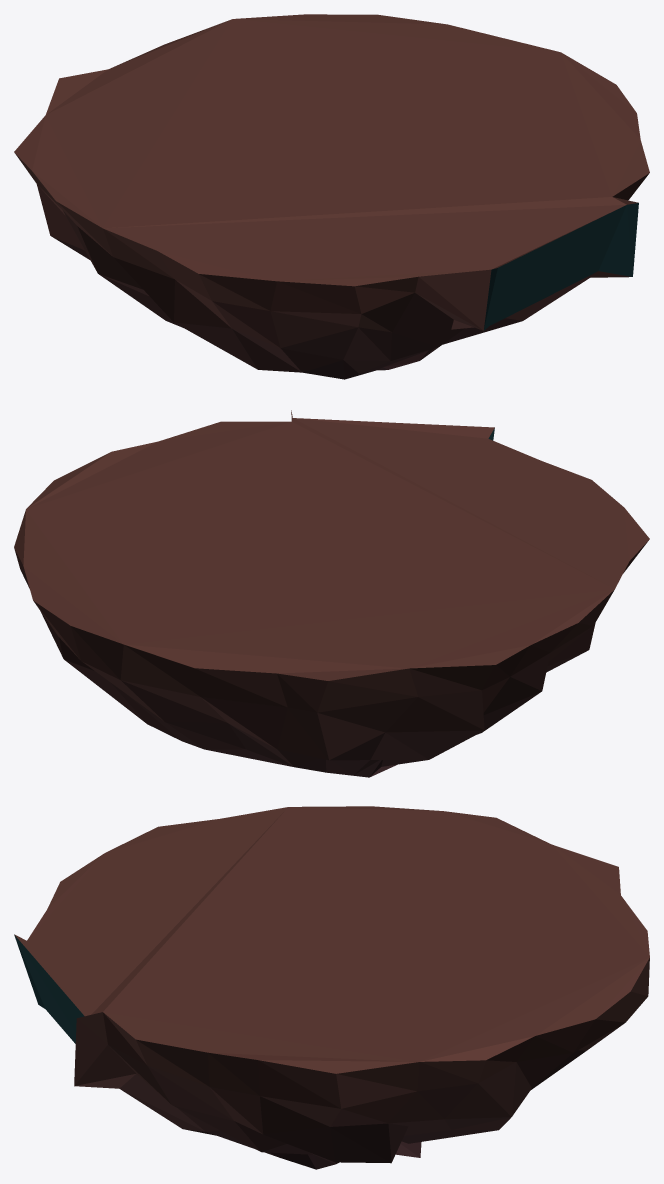
The model's file is underside.glb.
3 renders of one model, top to bottom at view 1: azimuth 30°, elevation 25°; view 2: azimuth 150°, elevation 25°; view 3: azimuth 270°, elevation 25°, orthographic.
Parts seen in each view (by area): view 1: underside; view 2: underside; view 3: underside.
Boxes of the visible parts, x1,y1,x2,y2 form: underside: (14,14,649,379); underside: (14,410,649,777); underside: (14,806,649,1169).
Size of the model in its own units: 11.43 by 4.5 by 11.61.
